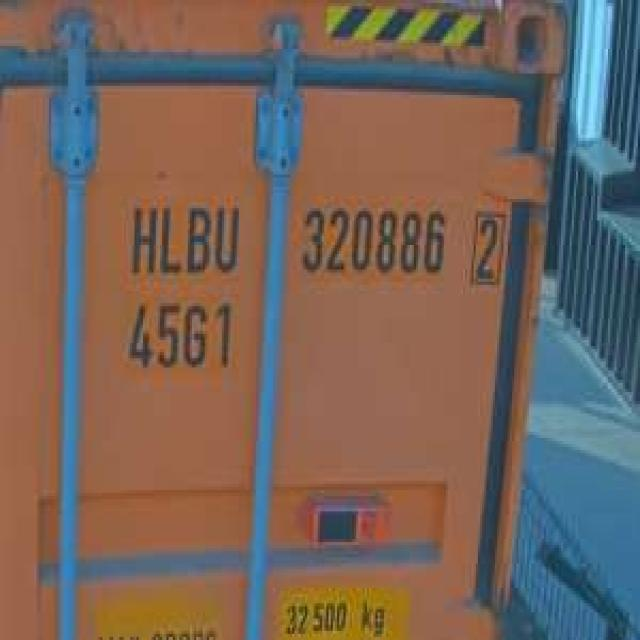dv: (465, 202, 510, 291)
owner: (124, 193, 243, 279)
serial: (297, 196, 448, 282)
size: (122, 291, 239, 377)
